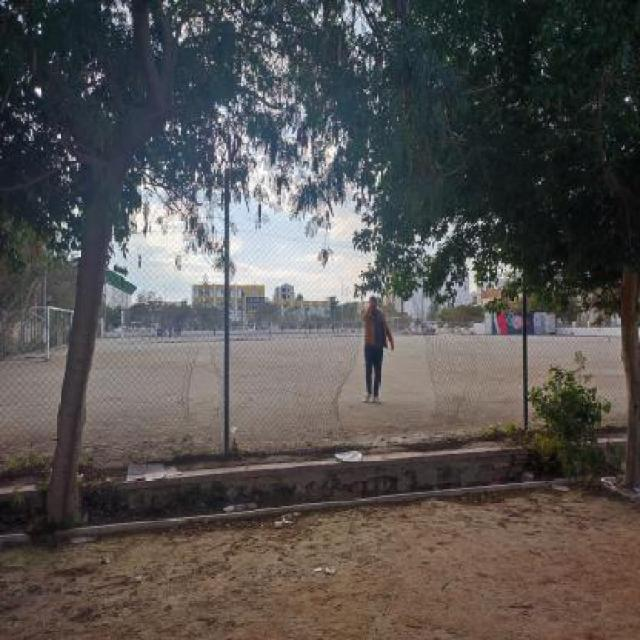fence line: (338, 243, 436, 469), (99, 325, 139, 373)
